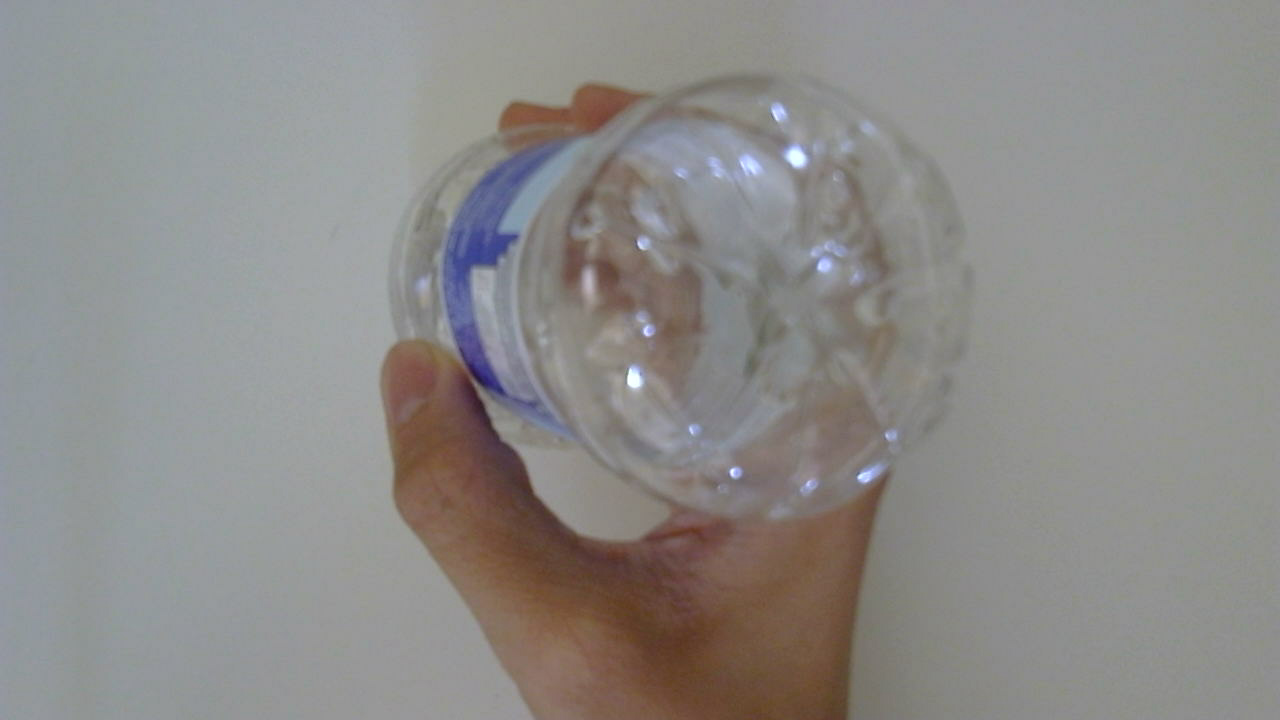Plastic Bottle: (378, 77, 989, 533)
